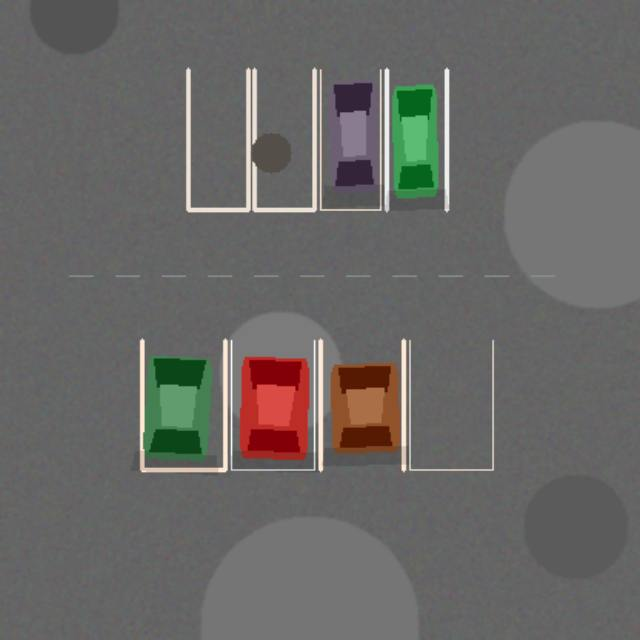space-empty: (409, 340, 492, 469), (188, 69, 248, 209), (254, 69, 314, 209)
space-occupied: (142, 340, 225, 469), (231, 340, 314, 469), (320, 340, 403, 469), (320, 69, 380, 209), (386, 69, 446, 209)
